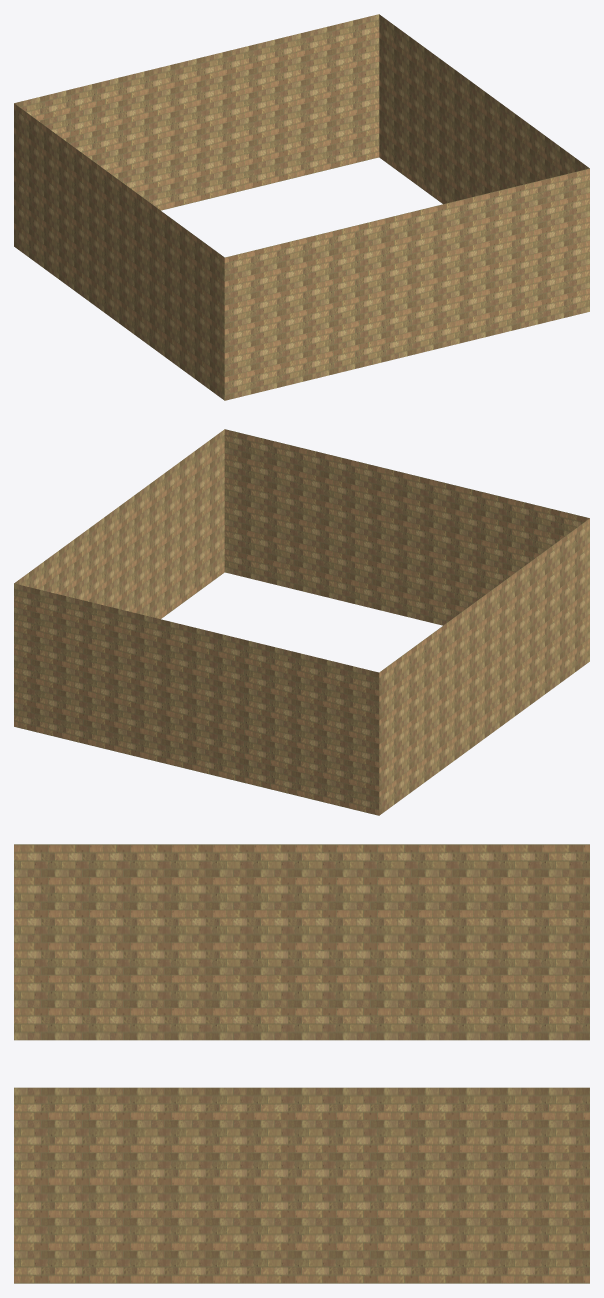
Rendered from wall.obj.
The picture shows the model from 3 angles, top to bottom: view 1: azimuth 30°, elevation 25°; view 2: azimuth 150°, elevation 25°; view 3: azimuth 270°, elevation 25°; orthographic projection. The views are drawn at different scales.
Parts seen in each view (by area): view 1: Plane_Plane.001; view 2: Plane_Plane.001; view 3: Plane_Plane.001.
Boxes of the visible parts, box(x1,y1,x2,y2) form: Plane_Plane.001: box(14, 14, 589, 400); Plane_Plane.001: box(14, 429, 589, 815); Plane_Plane.001: box(14, 844, 589, 1283).
Bounding box in the file's own units: 16 × 6 × 16.
Materials: 1 (1 with a texture image).
